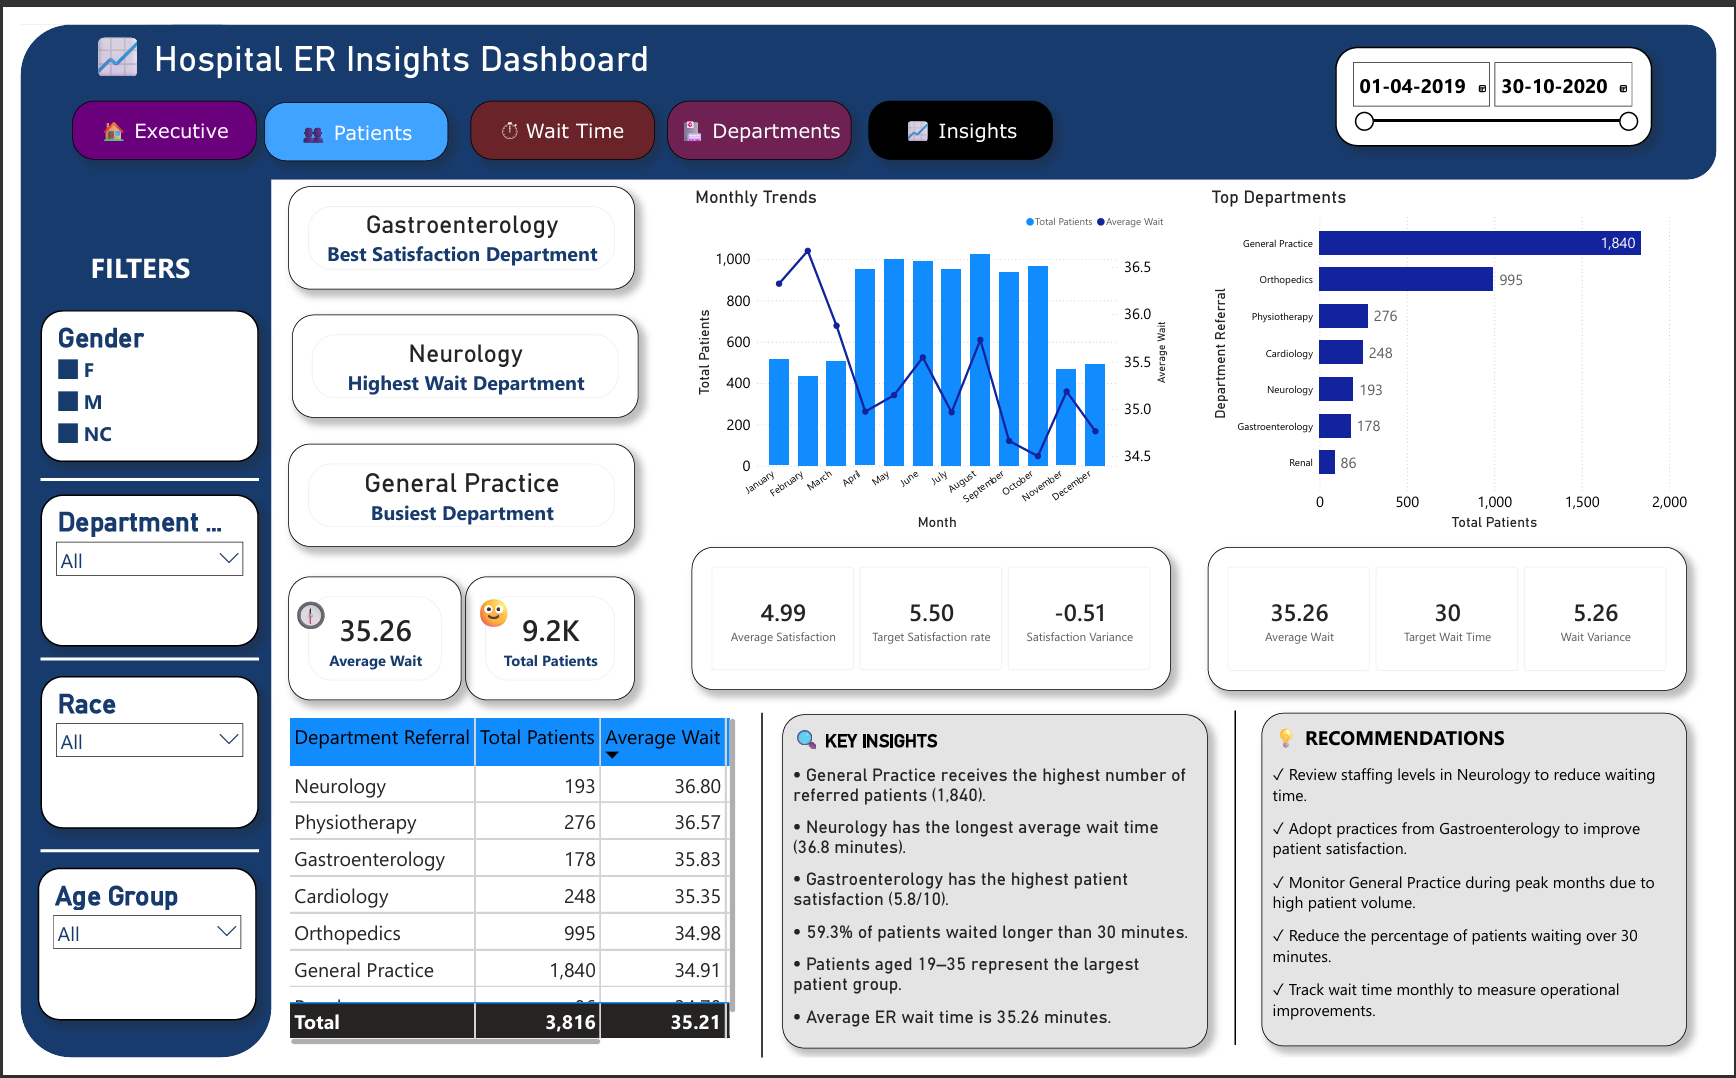

What the dashboard file says about the page in this screenshot:
{"tool":"powerbi","page":{"name":"Insights","canvas":[2300,1400],"ordinal":4},"visuals":[{"type":"shape","box":[170,0,2130,210],"z":0},{"type":"cardVisual","fields":{"Data":["Hospital ER.Total Patients"]},"box":[602.5,747.5,230,167.5],"z":0,"group":"g5"},{"type":"cardVisual","fields":{"Data":["Hospital ER.Busiest Department"]},"box":[362.5,567.5,470,140],"z":6,"group":"g3"},{"type":"shape","box":[0,0,340,1400],"z":1000},{"type":"textbox","box":[90,0,1153.3,113.3],"z":2000},{"type":"slicer","fields":{"Values":["Hospital ER.Gender"]},"box":[26.7,386.7,296.7,206.7],"z":3000},{"type":"slicer","fields":{"Values":["Hospital ER.Department Referral"]},"box":[26.7,636.7,296.7,206.7],"z":4000},{"type":"slicer","fields":{"Values":["Hospital ER.Race"]},"box":[26.7,883.3,296.7,206.7],"z":5000},{"type":"slicer","fields":{"Values":["Hospital ER.Age Group"]},"box":[23.3,1143.3,296.7,206.7],"z":6000},{"type":"shape","box":[26.7,560,296.7,113.3],"z":7000},{"type":"cardVisual","fields":{"Data":["Hospital ER.Average Wait"]},"box":[362.5,747.5,235,167.5],"z":7000,"group":"g1"},{"type":"shape","box":[26.7,1063.3,296.7,113.3],"z":8000},{"type":"shape","box":[26.7,803.3,296.7,113.3],"z":9000},{"type":"textbox","box":[90,297.5,172.5,90],"z":10000},{"type":"clusteredBarChart","title":"Top Departments","fields":{"Category":["Hospital ER.Department Referral"],"Y":["Hospital ER.Total Patients"]},"box":[1610,220,655,470],"z":11000},{"type":"slicer","fields":{"Values":["Hospital ER.Date"]},"box":[1782.5,30,430,135],"z":12000},{"type":"actionButton","box":[330,105,250,80],"z":13000},{"type":"actionButton","box":[610,103.3,250,80],"z":14000},{"type":"actionButton","box":[876.7,103.3,250,80],"z":15000},{"type":"actionButton","box":[1150,103.3,250,80],"z":16000},{"type":"actionButton","box":[70,102.5,250,80],"z":17000},{"type":"group","id":"g1","title":"Group 2","box":[362.5,747.5,235,167.5],"z":18000},{"type":"group","id":"g2","title":"Group 4","box":[367.5,392.5,470,140],"z":19000},{"type":"textbox","box":[362.5,768.5,118,86],"z":19000,"group":"g1"},{"type":"group","id":"g3","title":"Group 1","box":[362.5,567.5,470,140],"z":20000},{"type":"group","id":"g4","title":"Group 4","box":[362.5,215,470,144.5],"z":21000},{"type":"group","id":"g5","title":"Group 5","box":[602.5,747.5,230,167.5],"z":22000},{"type":"lineStackedColumnComboChart","title":"Monthly Trends","fields":{"Category":["Hospital ER.Date.Variation.Date Hierarchy.Month"],"Y":["Hospital ER.Total Patients"],"Y2":["Hospital ER.Average Wait"]},"box":[910,220,650,470],"z":23000},{"type":"textbox","box":[1032.5,935,577.5,452.5],"z":24000},{"type":"textbox","box":[1682.5,932.5,577.5,452.5],"z":25000},{"type":"shape","box":[977.5,932.5,55,467.5],"z":26000},{"type":"shape","box":[1610,930,75,452.5],"z":27000},{"type":"cardVisual","fields":{"Data":["Hospital ER.Best Satisfaction Department"]},"box":[362.5,219.5,470,140],"z":28000,"group":"g4"},{"type":"cardVisual","fields":{"Data":["Hospital ER.Highest Wait Department"]},"box":[367.5,392.5,470,140],"z":28000,"group":"g2"},{"type":"group","id":"g6","title":"Group 3","box":[610.2,765,155.2,80],"z":28000,"group":"g5"},{"type":"tableEx","fields":{"Values":["Hospital ER.Department Referral","Hospital ER.Total Patients","Hospital ER.Average Wait","Hospital ER.Average Satisfaction"]},"box":[360,935,615,452.5],"z":28000},{"type":"cardVisual","fields":{"Data":["Hospital ER.Average Satisfaction","Hospital ER.Target Satisfaction rate","Hospital ER.Satisfaction Variance"]},"box":[910,708.3,650,193.3],"z":29000},{"type":"textbox","box":[610.2,765,155.2,80],"z":29000,"group":"g6"},{"type":"textbox","box":[402.4,215,266.8,73.8],"z":30000,"group":"g4"},{"type":"cardVisual","fields":{"Data":["Hospital ER.Average Wait","Hospital ER.Target Wait Time","Hospital ER.Wait Variance"]},"box":[1610,707.5,650,195],"z":30000}]}

Visuals, with their boxes in screenshot pixels (x1, y1, x2, y2), scaled from the page's 2300x1400 canvas onto the 1736x1078 screenshot:
shape: 128/0/1735/162
cardVisual - Hospital ER.Total Patients: 455/576/628/705
cardVisual - Hospital ER.Busiest Department: 274/437/628/545
shape: 0/0/257/1077
textbox: 68/0/938/87
slicer - Hospital ER.Gender: 20/298/244/457
slicer - Hospital ER.Department Referral: 20/490/244/649
slicer - Hospital ER.Race: 20/680/244/839
slicer - Hospital ER.Age Group: 18/880/242/1040
shape: 20/431/244/518
cardVisual - Hospital ER.Average Wait: 274/576/451/705
shape: 20/819/244/906
shape: 20/619/244/706
textbox: 68/229/198/298
"Top Departments" clusteredBarChart: 1215/169/1710/531
slicer - Hospital ER.Date: 1345/23/1670/127
actionButton: 249/81/438/142
actionButton: 460/80/649/141
actionButton: 662/80/850/141
actionButton: 868/80/1057/141
actionButton: 53/79/242/141
"Group 2" group: 274/576/451/705
"Group 4" group: 277/302/632/410
textbox: 274/592/363/658
"Group 1" group: 274/437/628/545
"Group 4" group: 274/166/628/277
"Group 5" group: 455/576/628/705
"Monthly Trends" lineStackedColumnComboChart: 687/169/1177/531
textbox: 779/720/1215/1068
textbox: 1270/718/1706/1066
shape: 738/718/779/1077
shape: 1215/716/1272/1065
cardVisual - Hospital ER.Best Satisfaction Department: 274/169/628/277
cardVisual - Hospital ER.Highest Wait Department: 277/302/632/410
"Group 3" group: 461/589/578/651
tableEx - Hospital ER.Department Referral x Hospital ER.Total Patients: 272/720/736/1068
cardVisual - Hospital ER.Average Satisfaction x Hospital ER.Target Satisfaction rate: 687/545/1177/694
textbox: 461/589/578/651
textbox: 304/166/505/222
cardVisual - Hospital ER.Average Wait x Hospital ER.Target Wait Time: 1215/545/1706/695
